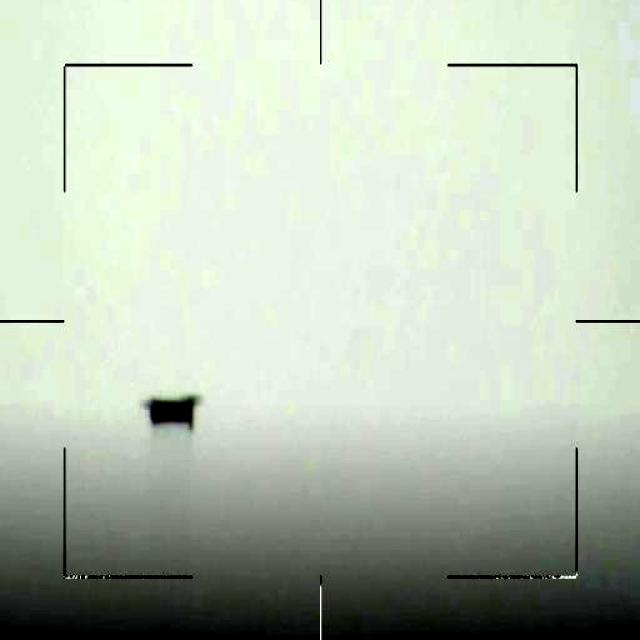bird: (145, 398, 199, 431)
